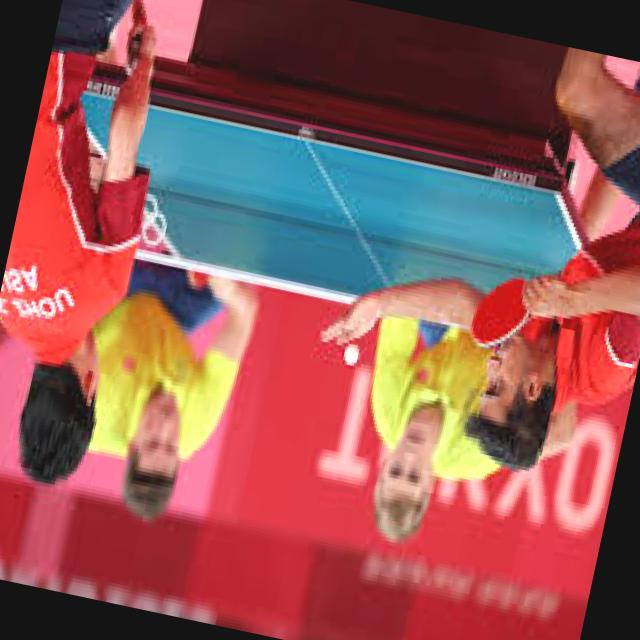TT Net: (76, 166, 549, 347)
TT Racket: (453, 268, 567, 361), (100, 0, 171, 86)
TT Table: (32, 79, 598, 347)
